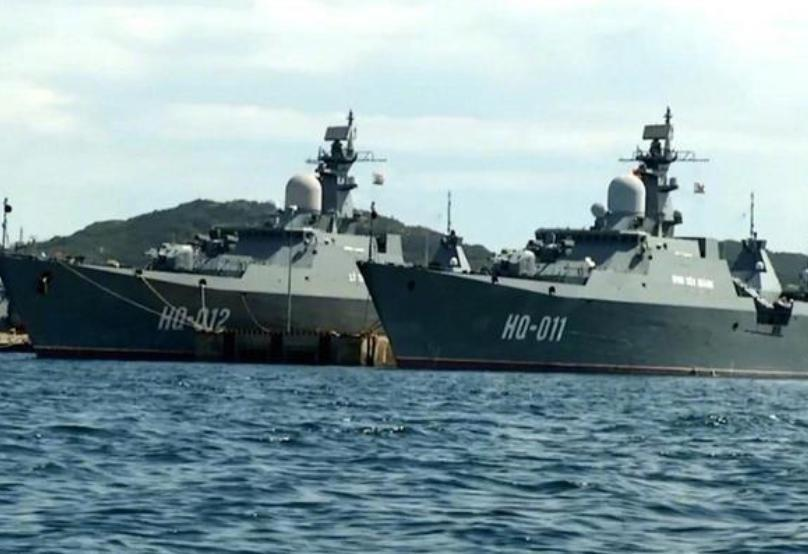MIL_Ship: (353, 109, 808, 378), (0, 105, 465, 365)
